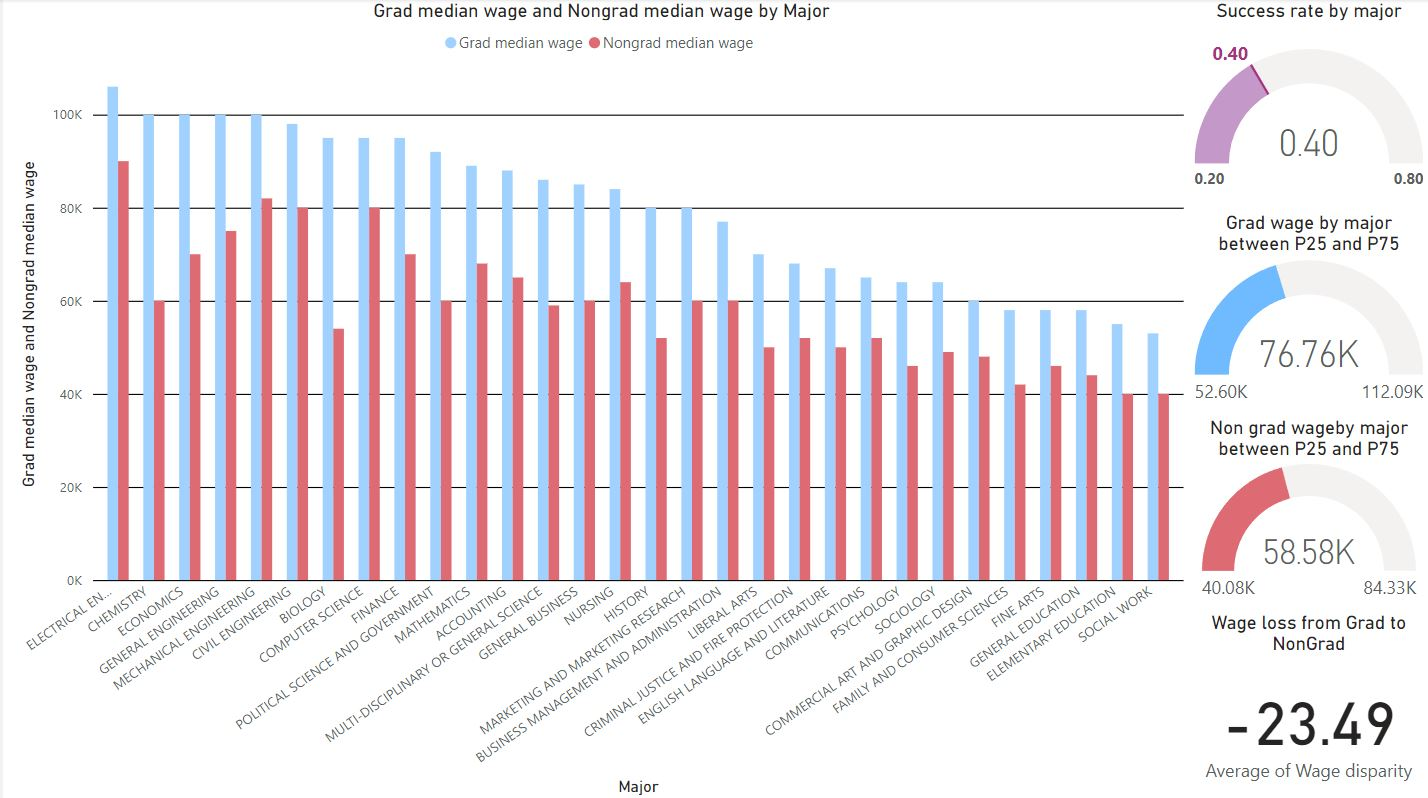

The dashboard page shown, as its layout file describes it:
{"tool":"powerbi","page":{"name":"Succes rate with wages by current major, recent grads","canvas":[1280,720],"ordinal":1},"visuals":[{"type":"lineClusteredColumnComboChart","fields":{"Category":["grad-students.Major"],"Y":["Sum(grad-students.Grad_median)","Sum(grad-students.Nongrad_median)"]},"box":[9.6,0,1054.8,719.9],"z":0},{"type":"gauge","title":"Success rate by major","fields":{"TargetValue":["grad-students.Sucess rate overall"],"Y":["Avg(grad-students.Success_rate_major)"]},"box":[1064.6,0,215.4,190.3],"z":1001},{"type":"gauge","title":"Non grad wageby major between P25 and P75 ","fields":{"MinValue":["Avg(grad-students.Nongrad_P25)"],"MaxValue":["Avg(grad-students.Nongrad_P75)"],"Y":["Avg(grad-students.Nongrad_median)"]},"box":[1064.6,374.3,215.4,175],"z":1002},{"type":"gauge","title":"Grad wage by major between P25 and P75","fields":{"Y":["Avg(grad-students.Grad_median)"],"MinValue":["Avg(grad-students.Grad_P25)"],"MaxValue":["Avg(grad-students.Grad_P75)"]},"box":[1064.6,190.3,215.4,184],"z":1003},{"type":"card","title":"Wage loss from Grad to NonGrad","fields":{"Values":["Avg(grad-students.Wage disparity)"]},"box":[1065,549,215,171],"z":1004}]}

Visuals, with their boxes in screenshot pixels (x1, y1, x2, y2), scaled from the page's 1280x720 canvas onto the 1428x798 screenshot:
lineClusteredColumnComboChart - grad-students.Major x Sum(grad-students.Grad_median): bbox(11, 0, 1187, 797)
"Success rate by major" gauge: bbox(1188, 0, 1427, 211)
"Non grad wageby major between P25 and P75 " gauge: bbox(1188, 415, 1427, 609)
"Grad wage by major between P25 and P75" gauge: bbox(1188, 211, 1427, 415)
"Wage loss from Grad to NonGrad" card: bbox(1188, 608, 1427, 797)
